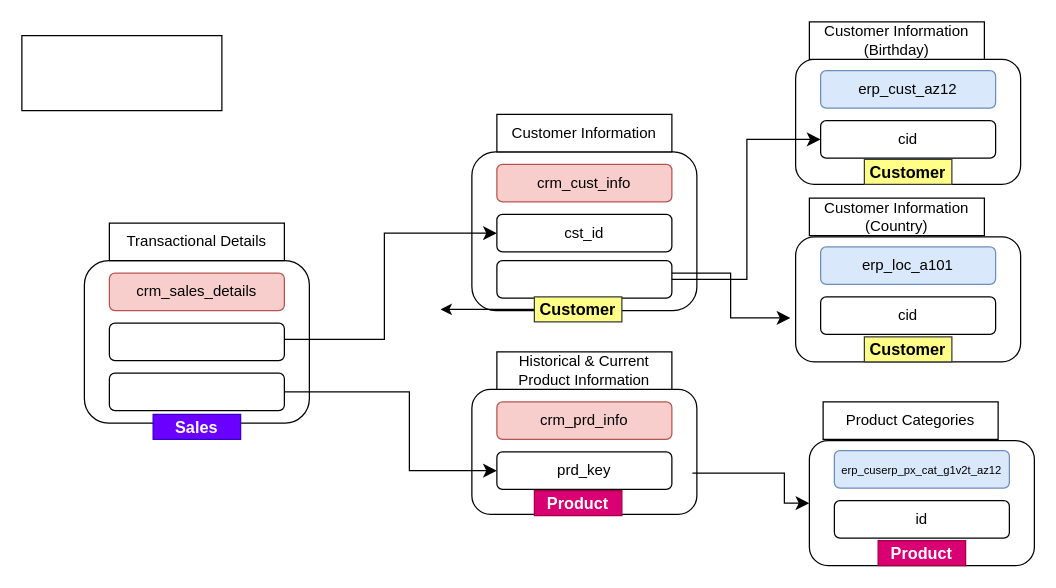
The diagram is 1056 pixels wide and 588 high, and some of its shapes have lost their labels. The centre of each missing label's shape, as x and y in pixels:
"cst_key" goes at pixel 584 278.
"Integration Model" goes at pixel 121 72.
"sls_cust_id" goes at pixel 196 341.
"sls_prd_key" goes at pixel 196 391.
